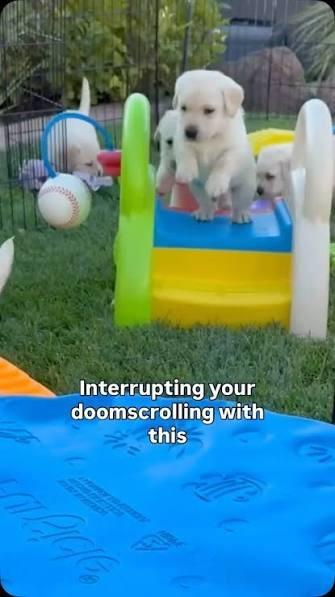non-dog: (37, 171, 92, 231)
puppy-dog: (170, 67, 257, 225), (48, 75, 108, 180), (155, 91, 206, 209), (250, 127, 297, 212)
